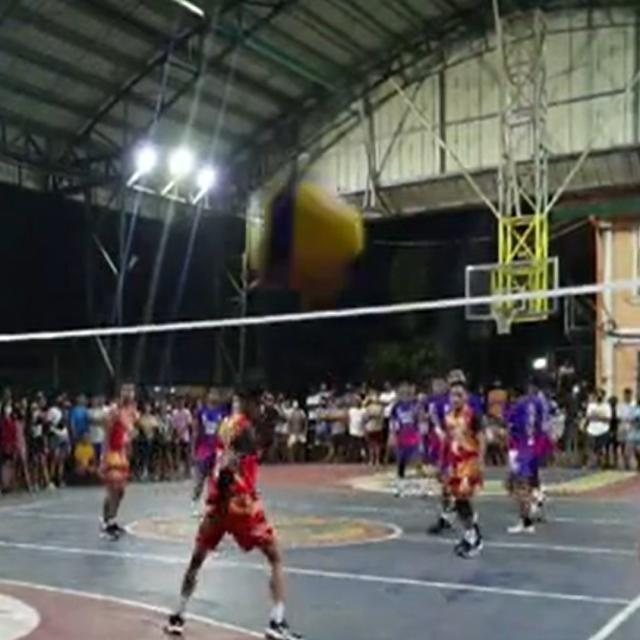volleyball: (245, 173, 363, 298)
